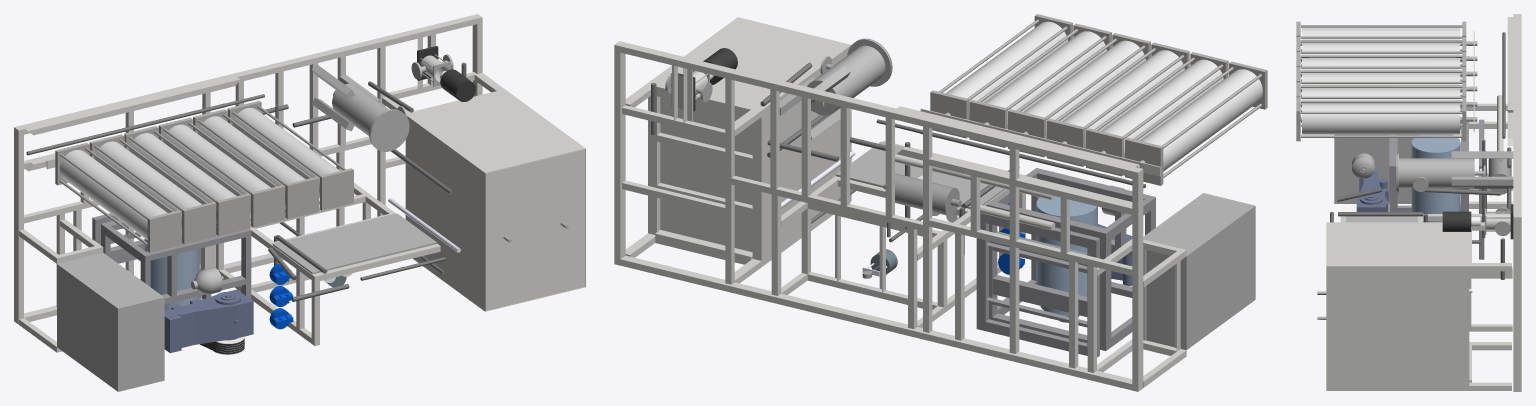
Rendered from pump1.glb.
3 views of the same model, side by side, from view 1: azimuth 30°, elevation 25°; view 2: azimuth 150°, elevation 25°; view 3: azimuth 270°, elevation 25° (orthographic). The views are drawn at different scales.
Visible parts, largest first — view 1: T2230460_简化_1; view 2: T2230460_简化_1; view 3: T2230460_简化_1.
Part boxes in pixels (x1,y1,x2,y2): T2230460_简化_1: (14,14,585,391); T2230460_简化_1: (614,14,1267,391); T2230460_简化_1: (1296,14,1521,391).
Bounding box in the file's own units: 3.5 × 1.4 × 1.64.
